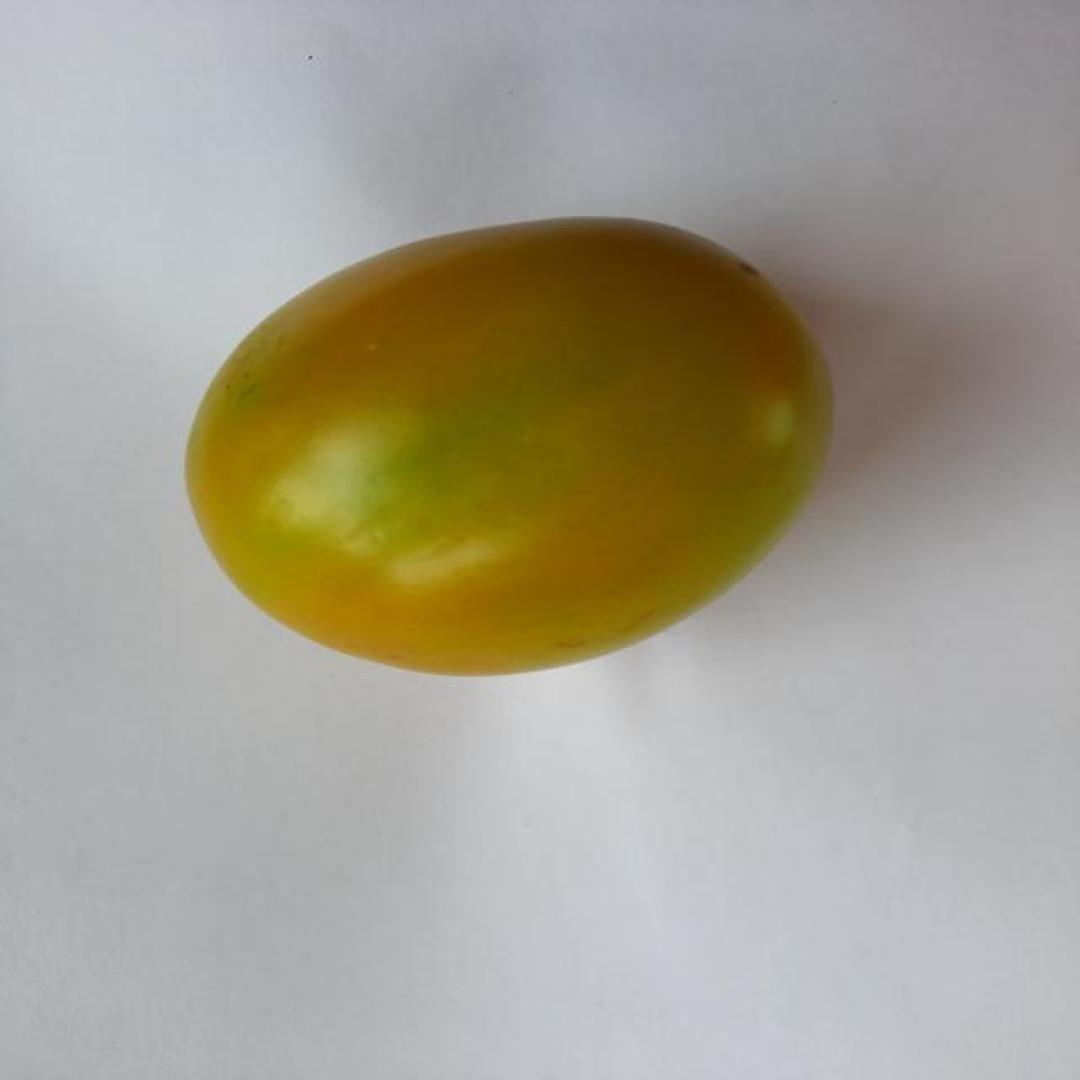setengah_matang: (176, 211, 842, 682)
